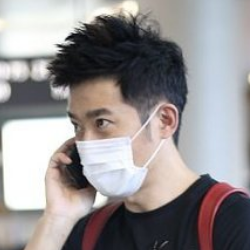mask: (71, 127, 153, 202)
